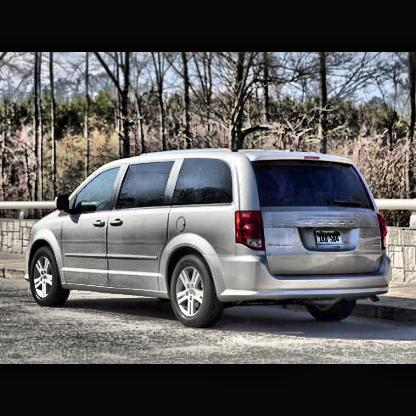Chrysler Town and Country Minivan 2012: (27, 149, 391, 328)
